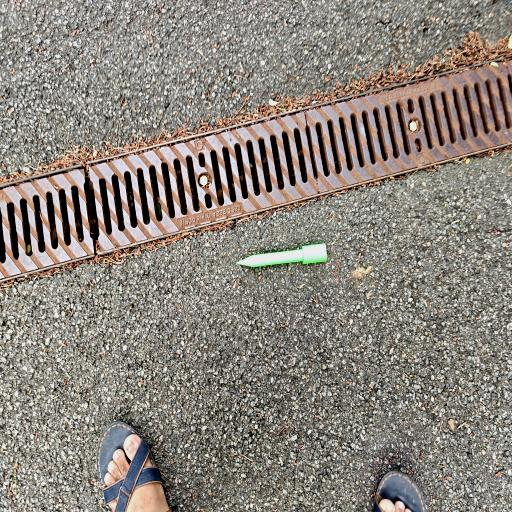Probe-Detection: (237, 243, 327, 267)
